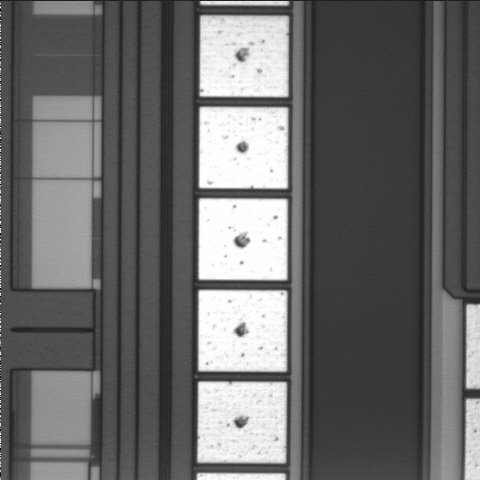pad: (199, 107, 288, 189), (199, 198, 288, 280), (198, 290, 287, 372), (197, 382, 287, 463), (200, 16, 288, 97)
